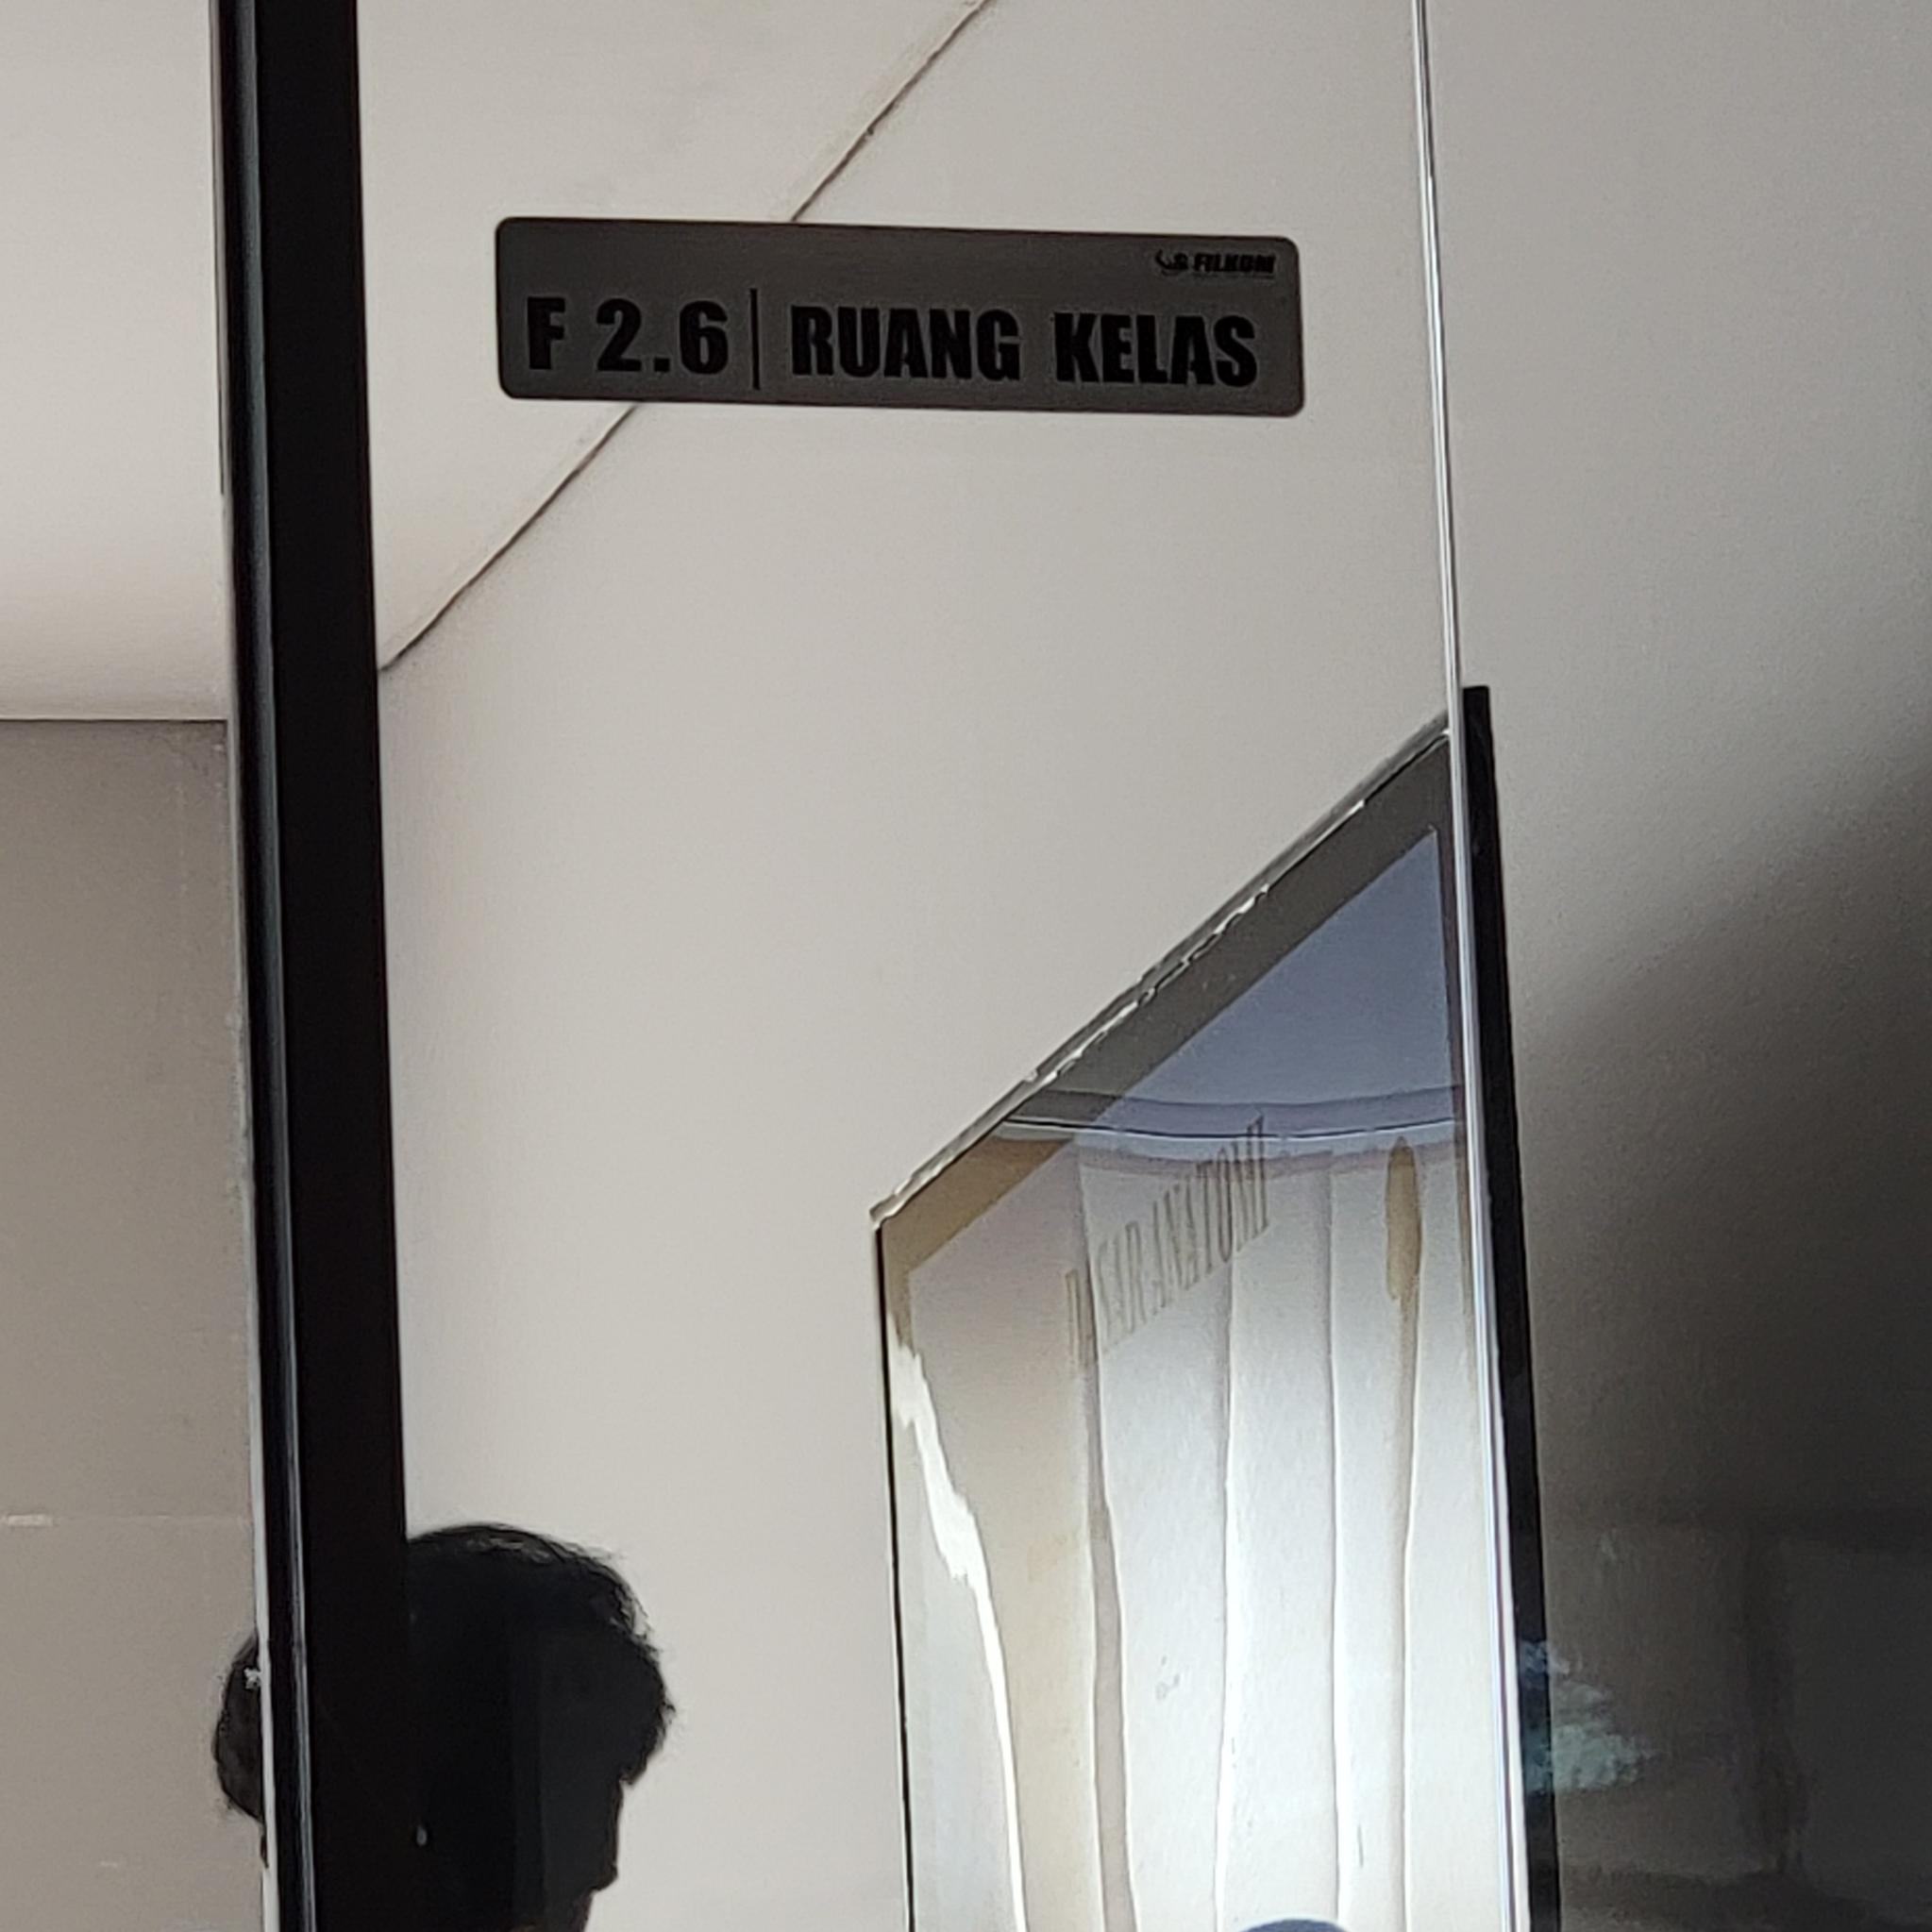plate: (494, 212, 1306, 418)
